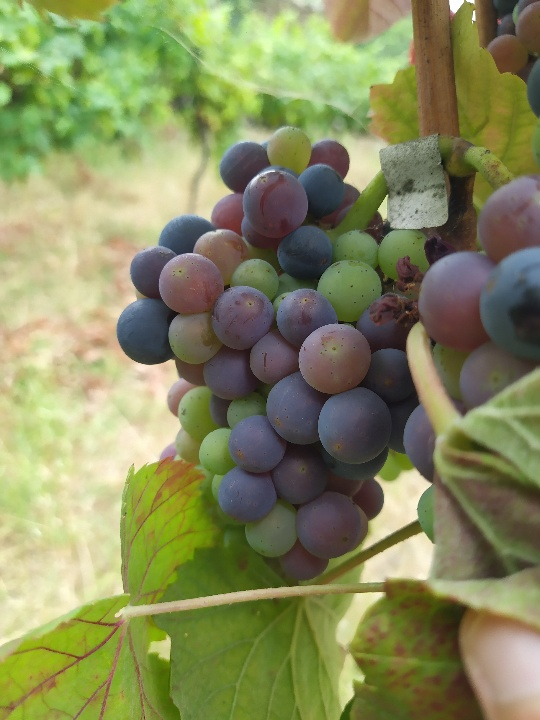grape: (112, 122, 415, 584)
